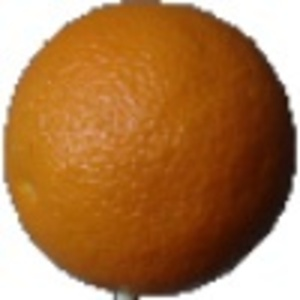laranja: (5, 3, 294, 293)
